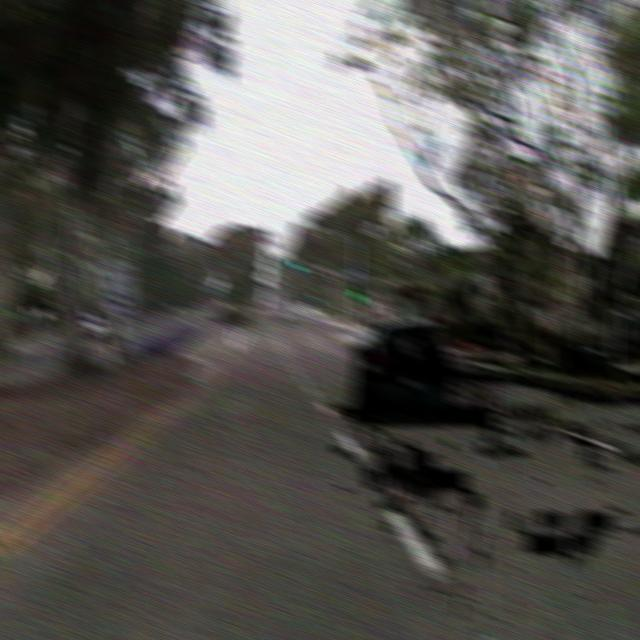speedLimit45: (99, 259, 136, 313)
